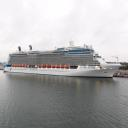cruises: (4, 41, 123, 81)
